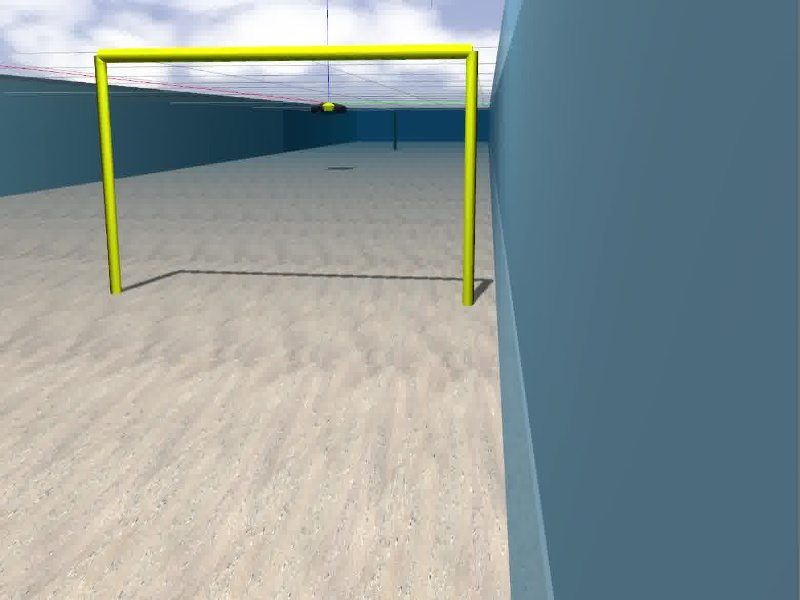gate: (93, 49, 478, 310)
